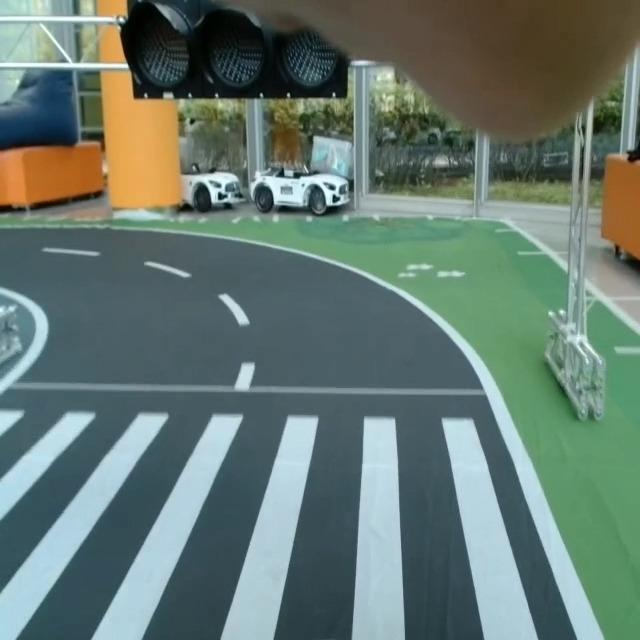traffic-light: (129, 0, 342, 103)
